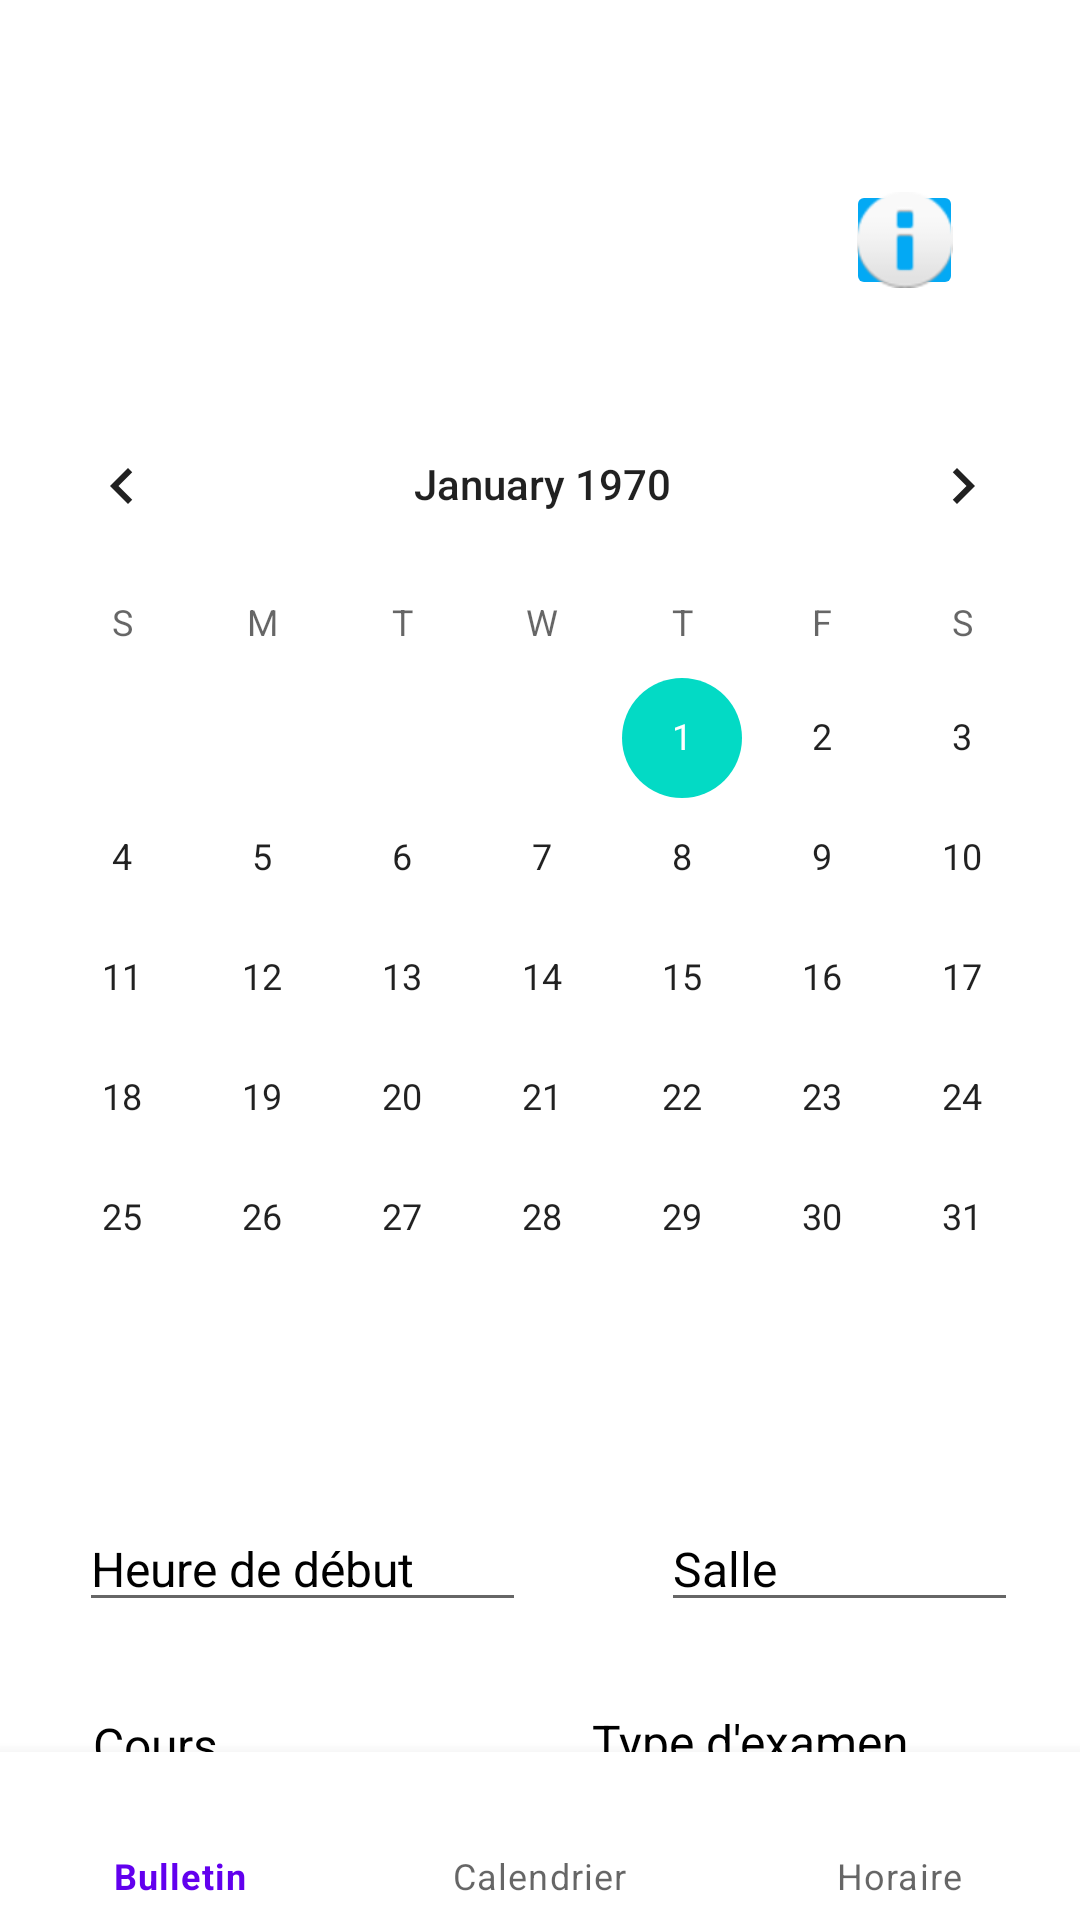

Screen size 1080*1920. Icon name, then its center in pixels as (x,y):
information: (905,243)
